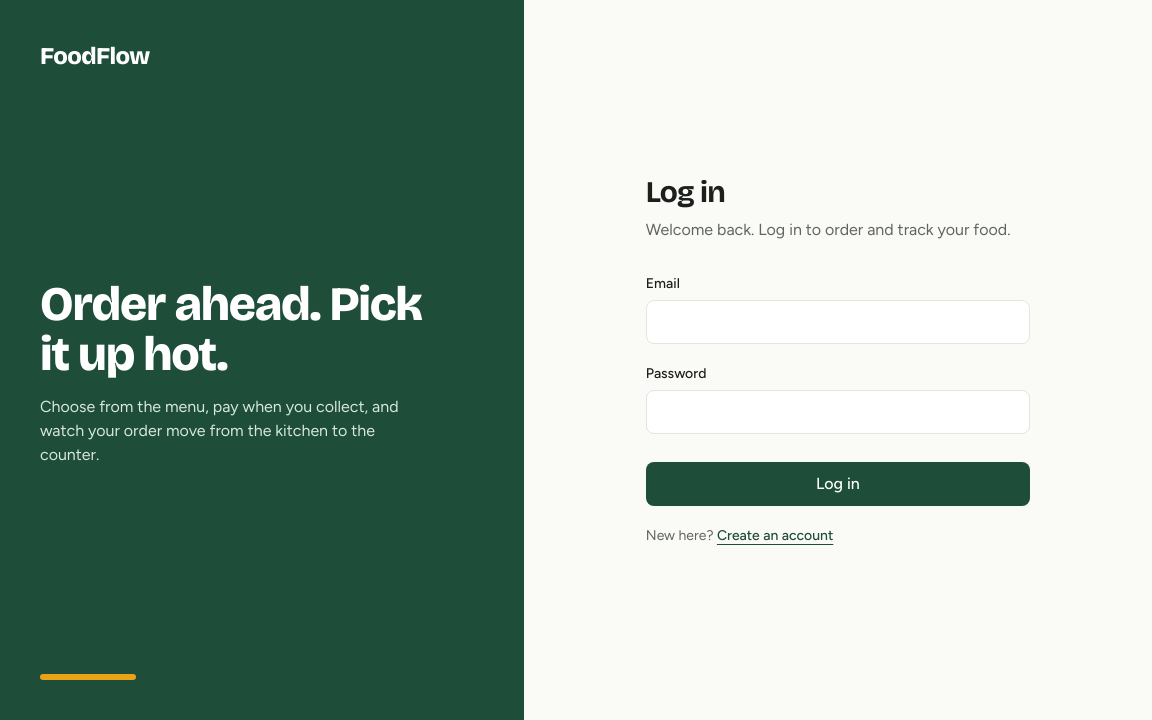
LoginPage › shows a clear message for wrong credentials
Type "someone@example.com" into the field labelled "Email" at point(838, 322), box [646,300,1030,344]
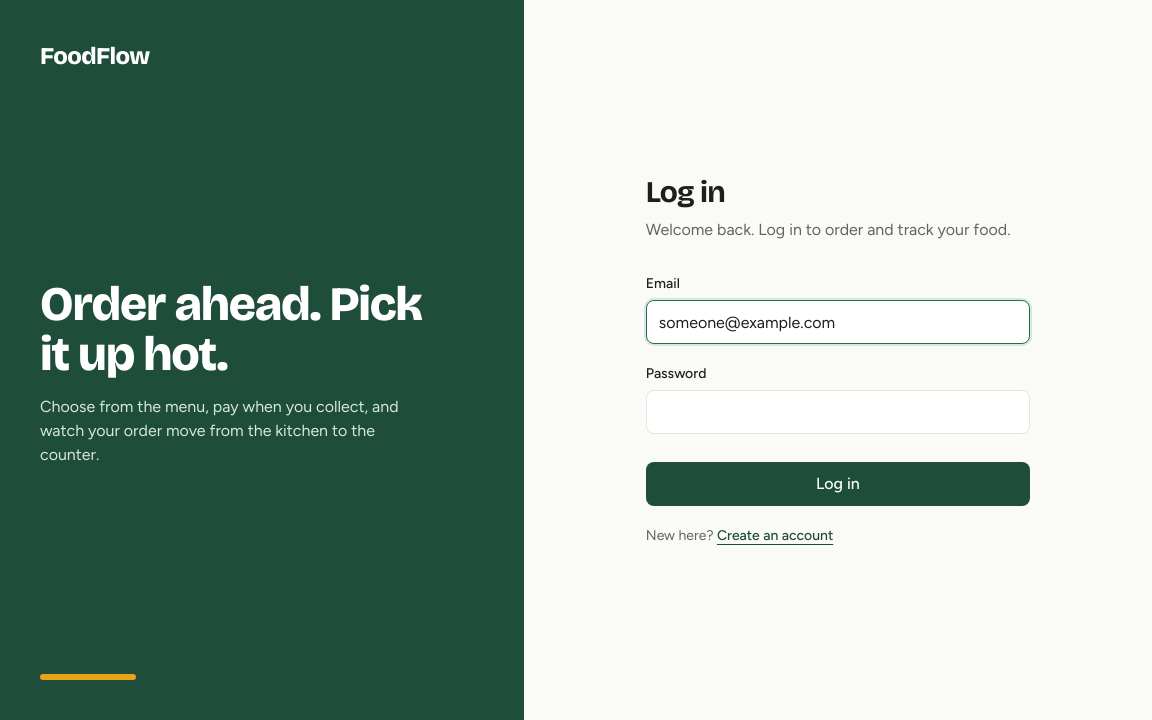
Type "Wrong1234" into the password field labelled "Password" at point(838, 412), box [646,390,1030,434]
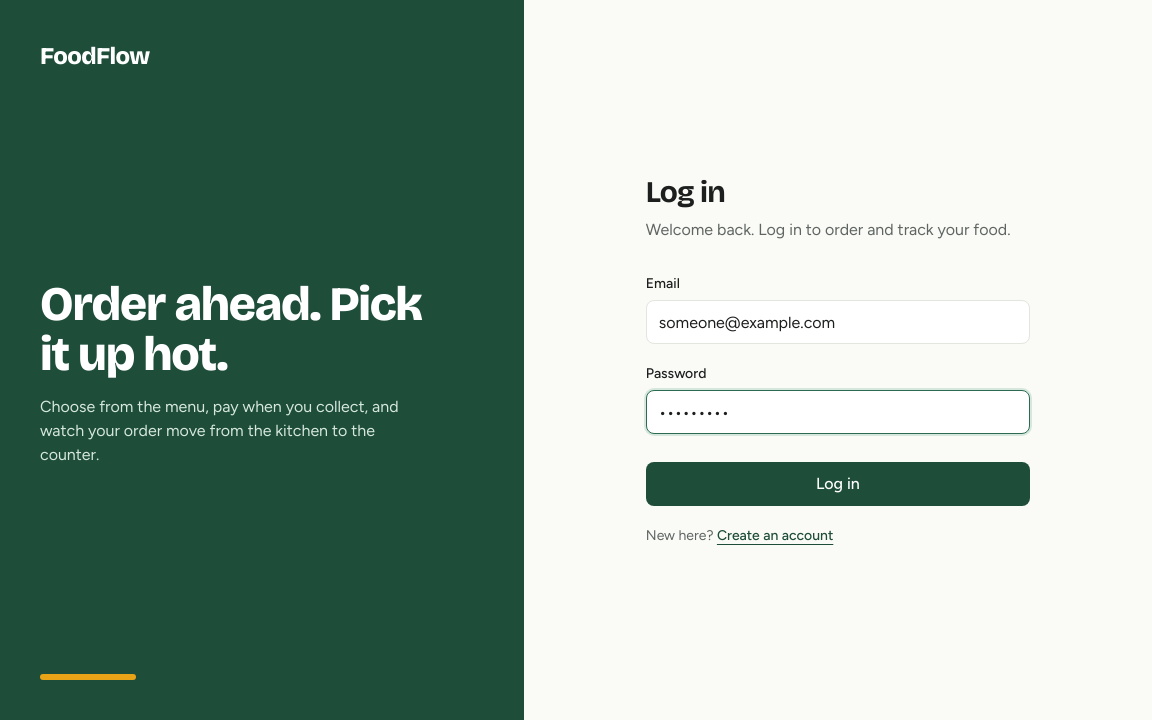
Click the button "Log in" at point(838, 484), box [646,462,1030,506]
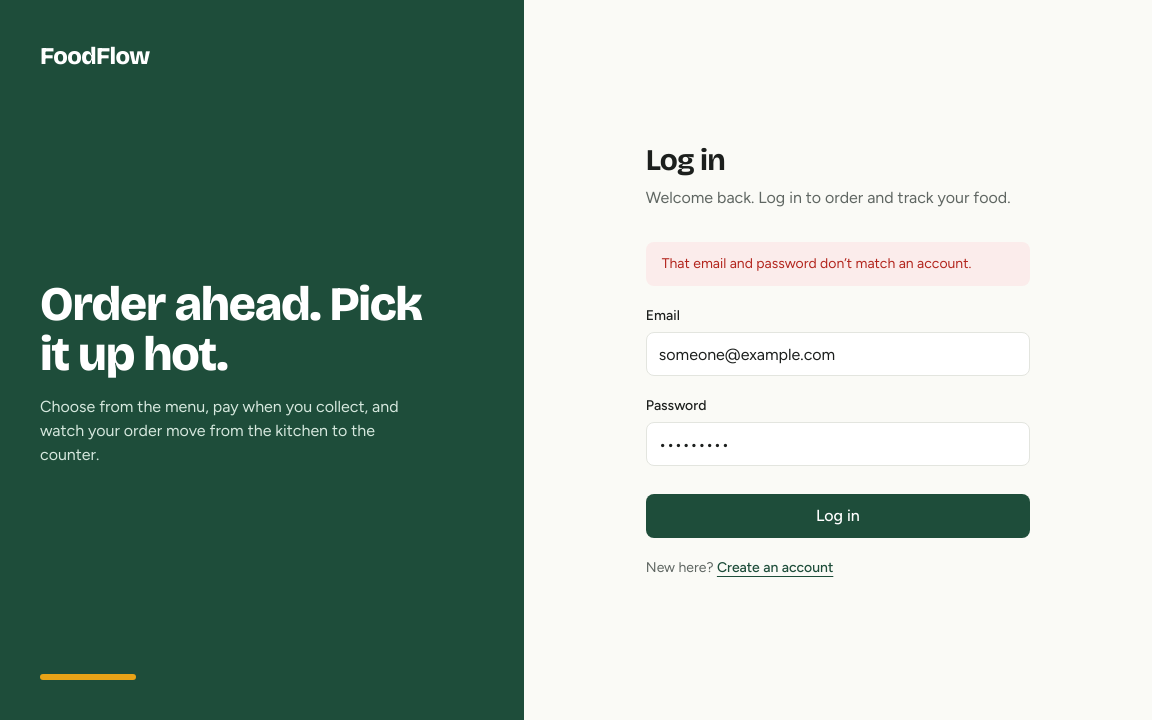
Expected: the message shows "don’t match an account", [662,255,971,272]
